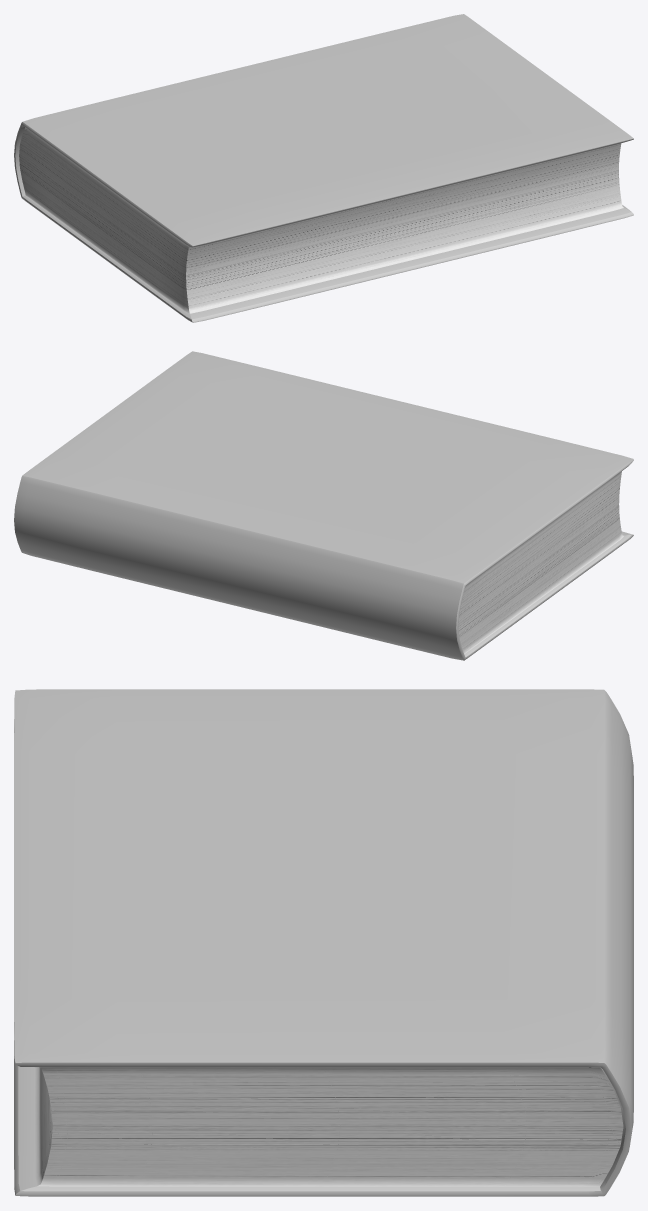
File: holy quran.fbx
3 renders of one model, top to bottom at view 1: azimuth 30°, elevation 25°; view 2: azimuth 150°, elevation 25°; view 3: azimuth 270°, elevation 25°, orthographic. The views are drawn at different scales.
Visible parts, largest first — view 1: book of quaran; view 2: book of quaran; view 3: book of quaran.
Boxes of the visible parts, x1,y1,x2,y2 form: book of quaran: [14, 14, 633, 322]; book of quaran: [14, 351, 633, 660]; book of quaran: [14, 689, 633, 1196].
Bounding box in the file's own units: 264 × 44.98 × 185.
